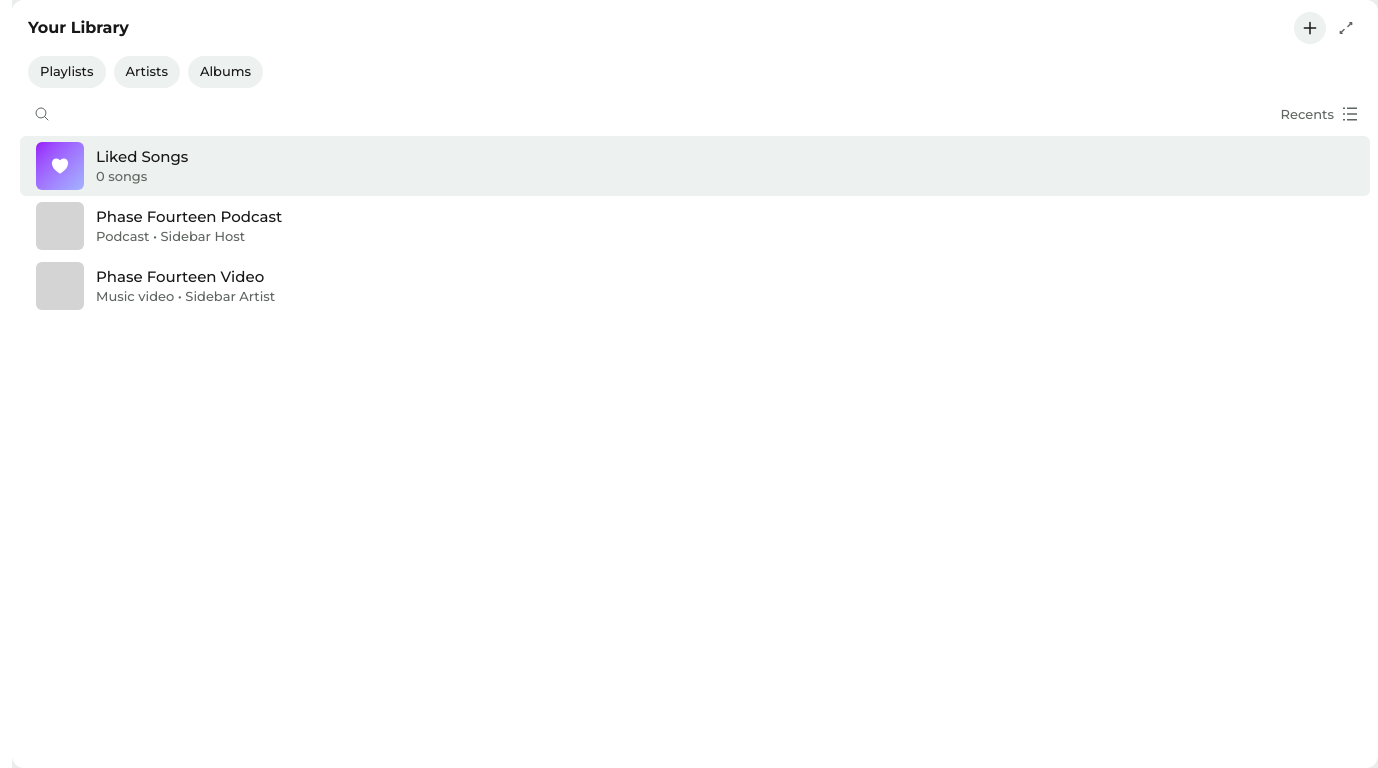
it: Sidebar saved media navigation › opens the create menu only on blank library space and reuses both create actions
This screenshot has width=1378, height=768.
Right-click the element showing "Your Library Playlists Artists Albums Recents": [695, 68] box [12,0,1377,136]
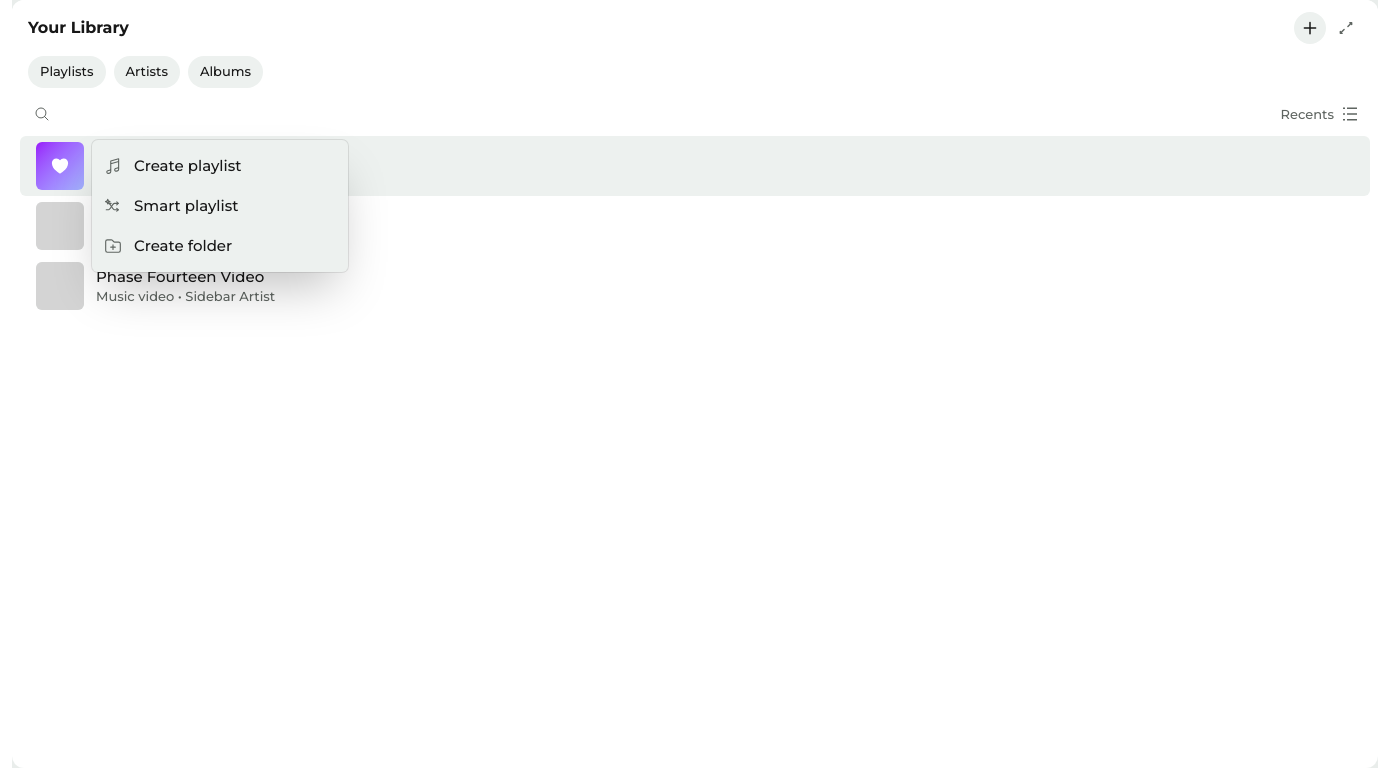
Check: the menu named "Create playlist or folder" is shown, box [92,140,348,272]
Click the menu item "Create folder": [220, 246] box [92,226,348,266]
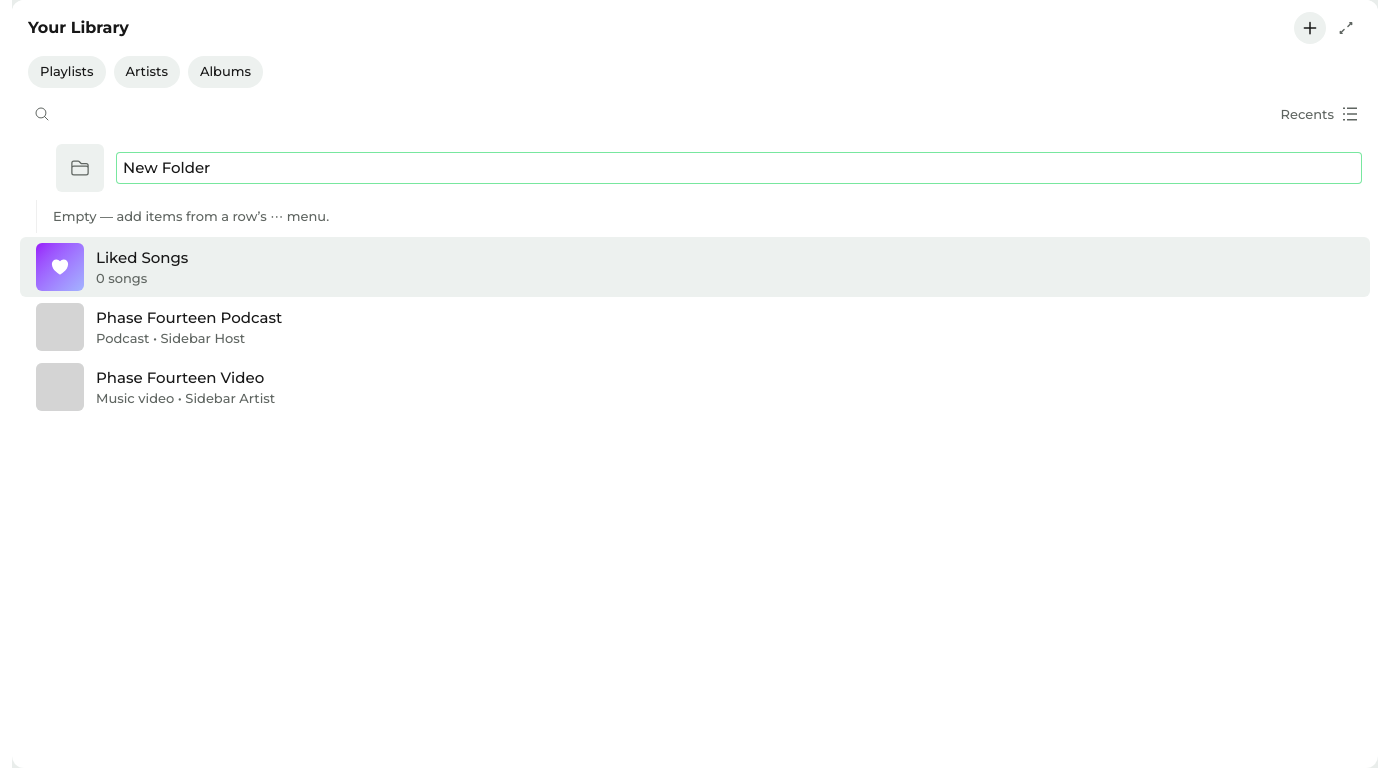
Right-click the element showing "Your Library Playlists Artists Albums Recents": [695, 68] box [12,0,1377,136]
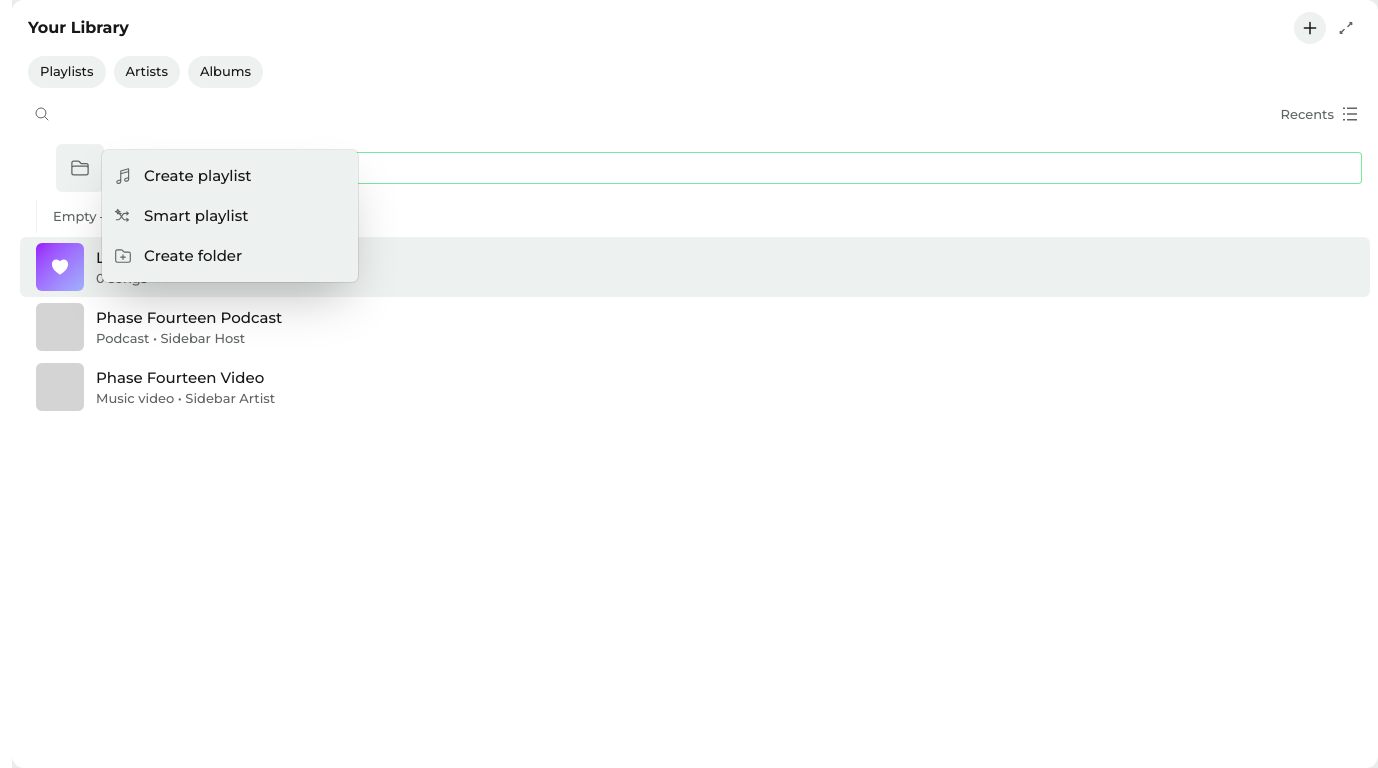
Click the menu item "Create playlist": [230, 176] box [102,156,358,196]
(page scrolled)
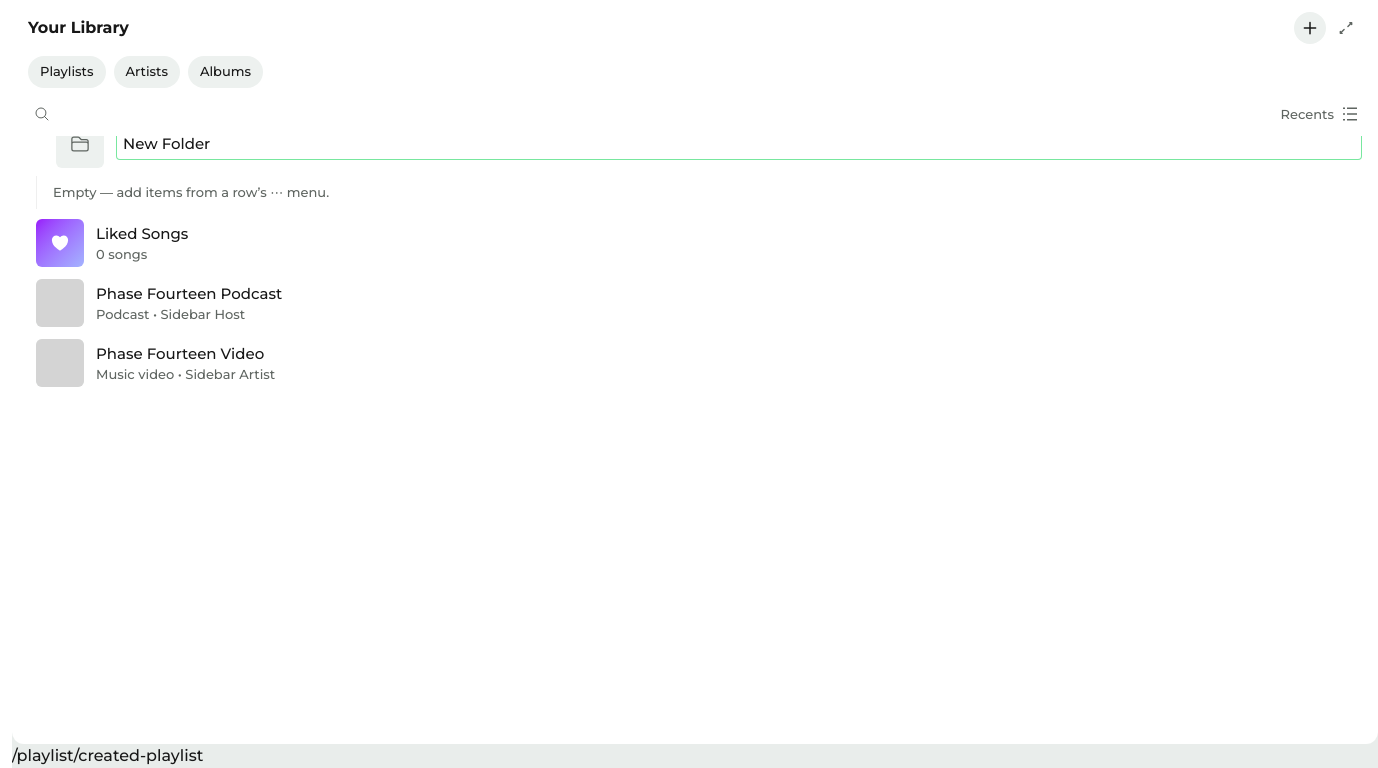
Check: the text named "current route" reads "/playlist/created-playlist", box [12,746,203,765]
